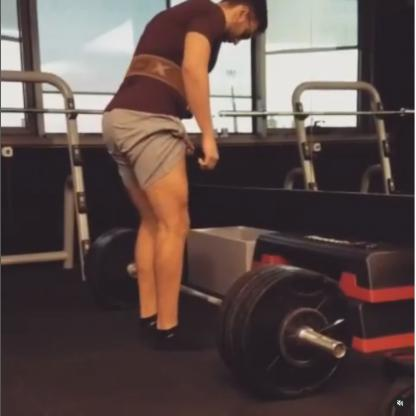barbell: (218, 264, 353, 398)
